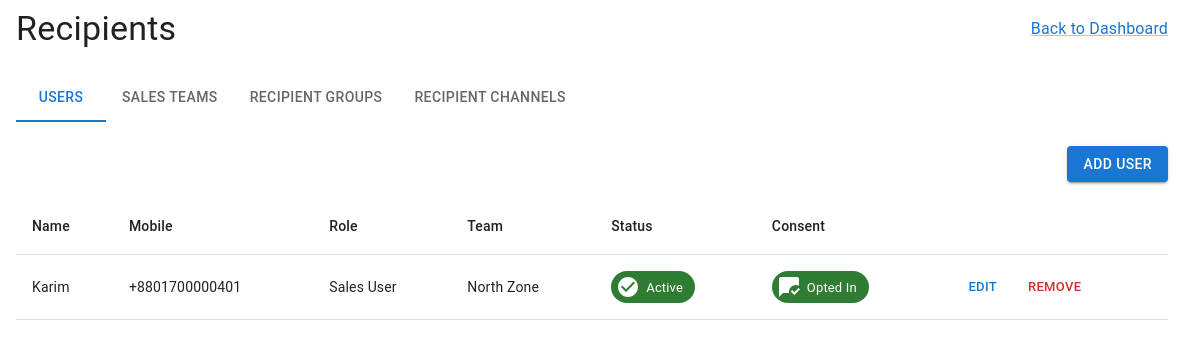
RecipientsPage › switches to the Recipient Channels tab and renders only channel-kind lists from GET /recipient-lists
This screenshot has width=1186, height=337.
Expected: the text "Karim" is shown, 16,255 -> 113,320
Click the tab "Recipient Channels": {"x": 490, "y": 98} 398,74 -> 582,122
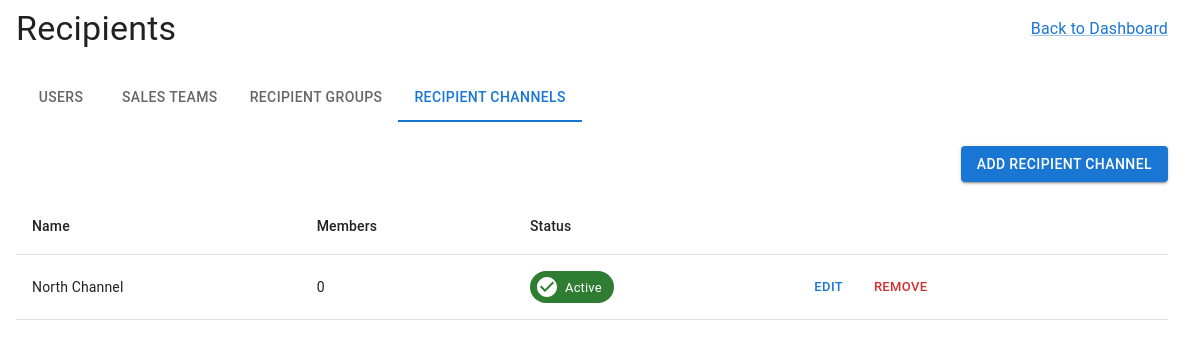
Now the text "North Channel" is shown, box 16,255 -> 301,320
